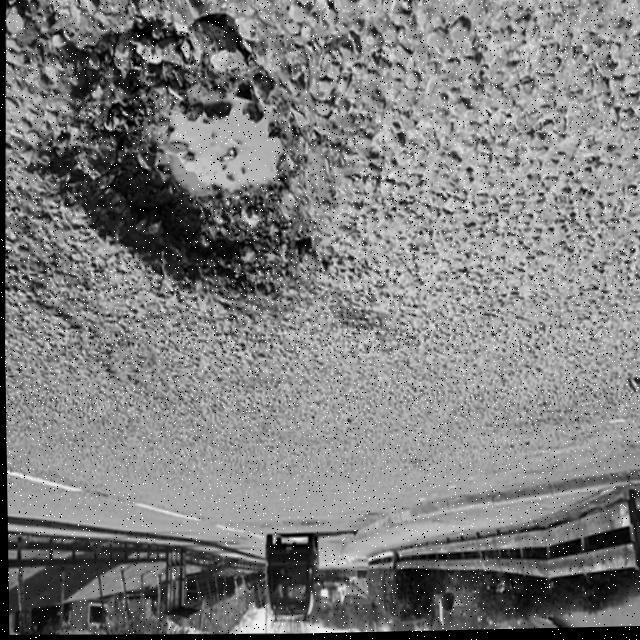pothole: (41, 31, 324, 320)
